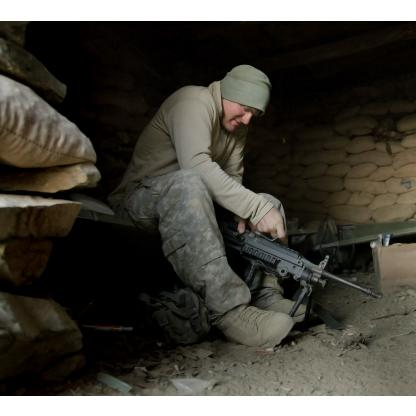gun: (219, 226, 387, 326)
